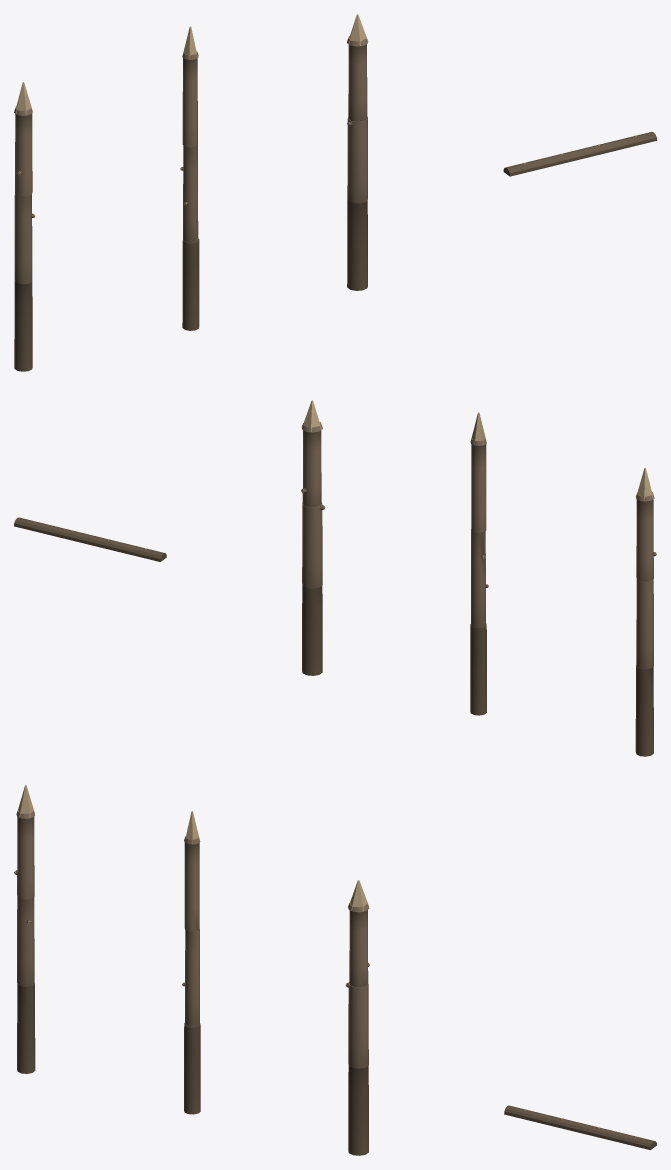
The model's file is palisade.glb.
3 renders of one model, top to bottom at view 1: azimuth 30°, elevation 25°; view 2: azimuth 150°, elevation 25°; view 3: azimuth 330°, elevation 25°, orthographic.
Parts seen in each view (by area): view 1: stake_c, stake_a, stake_b, rail; view 2: stake_c, stake_a, stake_b, rail; view 3: stake_c, stake_a, stake_b, rail.
Part boxes in pixels (x1,y1,x2,y2): stake_c: (347,14,368,290); stake_a: (14,82,34,371); stake_b: (180,26,199,330); rail: (503,132,656,176); stake_c: (301,400,325,675); stake_a: (635,468,656,756); stake_b: (470,412,488,715); rail: (14,517,166,561); stake_c: (345,880,369,1155); stake_a: (14,785,35,1073); stake_b: (182,811,200,1114); rail: (504,1105,656,1149).
Size of the model in its own units: 11.47 by 5.16 by 0.3704.
